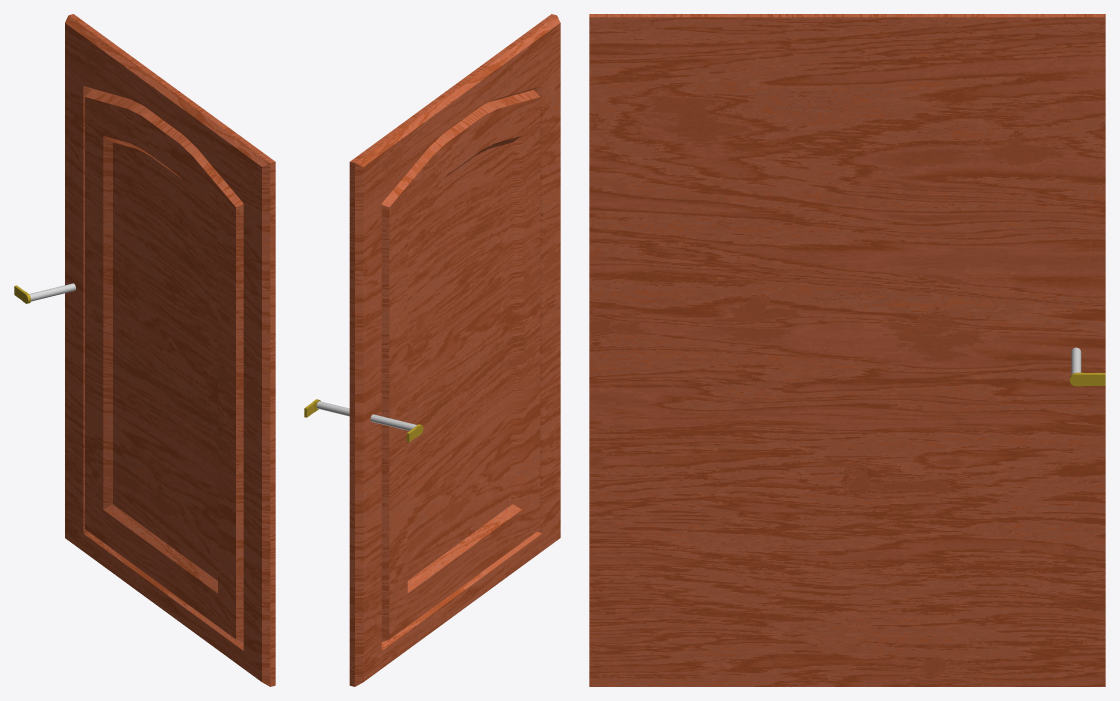
File: Cabinet_d4548b80.obj
3 views of the same model, side by side, from view 1: azimuth 30°, elevation 25°; view 2: azimuth 150°, elevation 25°; view 3: azimuth 270°, elevation 25° (orthographic). The views are drawn at different scales.
Parts seen in each view (by area): view 1: Mesh_01_83d3cc06, handle_2_178mm_01_e3bd4c6e; view 2: Mesh_01_83d3cc06, handle_2_178mm_01_e3bd4c6e; view 3: Mesh_01_83d3cc06.
Boxes of the visible parts, <box> form: Mesh_01_83d3cc06: <box>65,14,275,686</box>; handle_2_178mm_01_e3bd4c6e: <box>14,283,75,303</box>; Mesh_01_83d3cc06: <box>349,14,560,686</box>; handle_2_178mm_01_e3bd4c6e: <box>304,399,423,442</box>; Mesh_01_83d3cc06: <box>589,14,1105,686</box>.
Size of the model in its own units: 0.178 by 0.848 by 0.5925.
